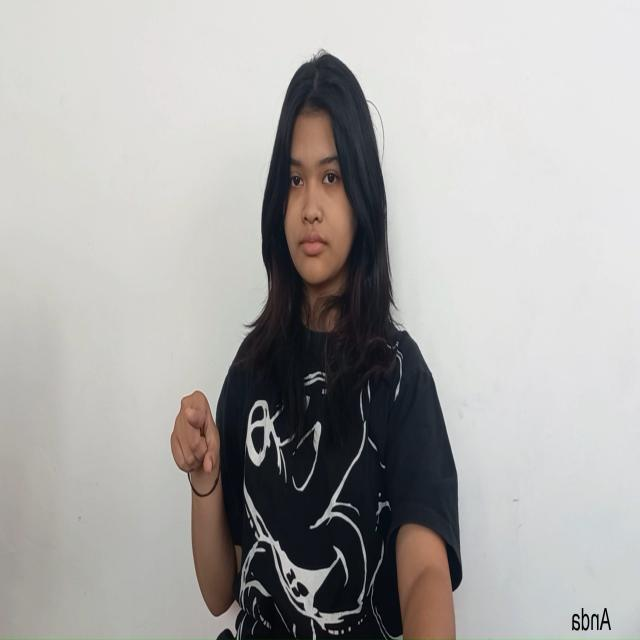Anda -BISINDO-: (170, 388, 221, 505)
